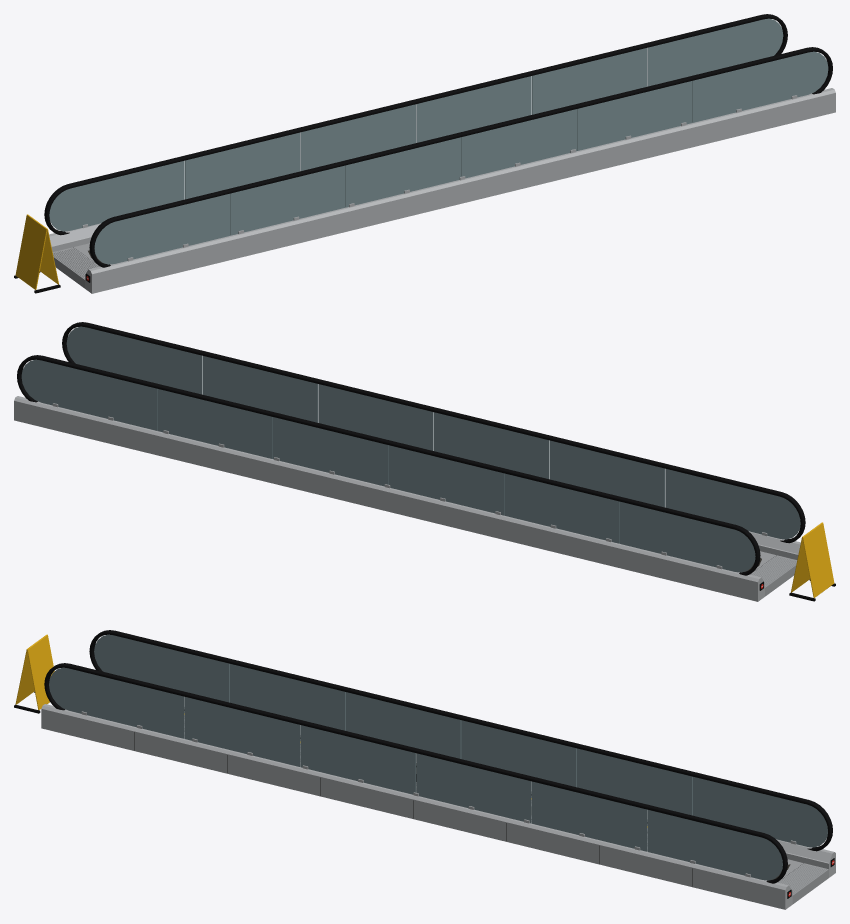
Rendered from travelator_stopped.glb.
The picture shows the model from 3 angles, top to bottom: view 1: azimuth 30°, elevation 25°; view 2: azimuth 150°, elevation 25°; view 3: azimuth 330°, elevation 25°; orthographic projection.
Visible parts, largest first — view 1: laufband_7, laufband_5, laufband_6, laufband_2, laufband_0; view 2: laufband_7, laufband_5, laufband_6, laufband_2, laufband_0; view 3: laufband_7, laufband_5, laufband_6, laufband_2, laufband_0.
Boxes of the visible parts, x1=… form: laufband_7: x1=49, y1=18, x2=828, y2=264; laufband_5: x1=49, y1=88, x2=835, y2=293; laufband_6: x1=44, y1=14, x2=832, y2=267; laufband_2: x1=15, y1=214, x2=58, y2=289; laufband_0: x1=52, y1=243, x2=99, y2=288; laufband_7: x1=21, y1=326, x2=800, y2=572; laufband_5: x1=14, y1=396, x2=800, y2=601; laufband_6: x1=17, y1=322, x2=805, y2=575; laufband_2: x1=791, y1=522, x2=834, y2=597; laufband_0: x1=750, y1=551, x2=797, y2=596; laufband_7: x1=49, y1=634, x2=827, y2=880; laufband_5: x1=41, y1=697, x2=835, y2=909; laufband_6: x1=44, y1=630, x2=832, y2=883; laufband_2: x1=15, y1=634, x2=647, y2=827; laufband_0: x1=184, y1=715, x2=828, y2=904.
Size of the model in its own units: 12.58 by 1.04 by 1.4.
